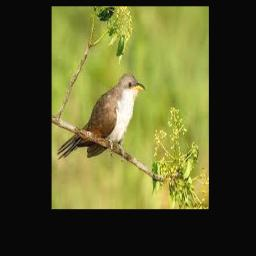Cuckoo: (56, 73, 145, 157)
